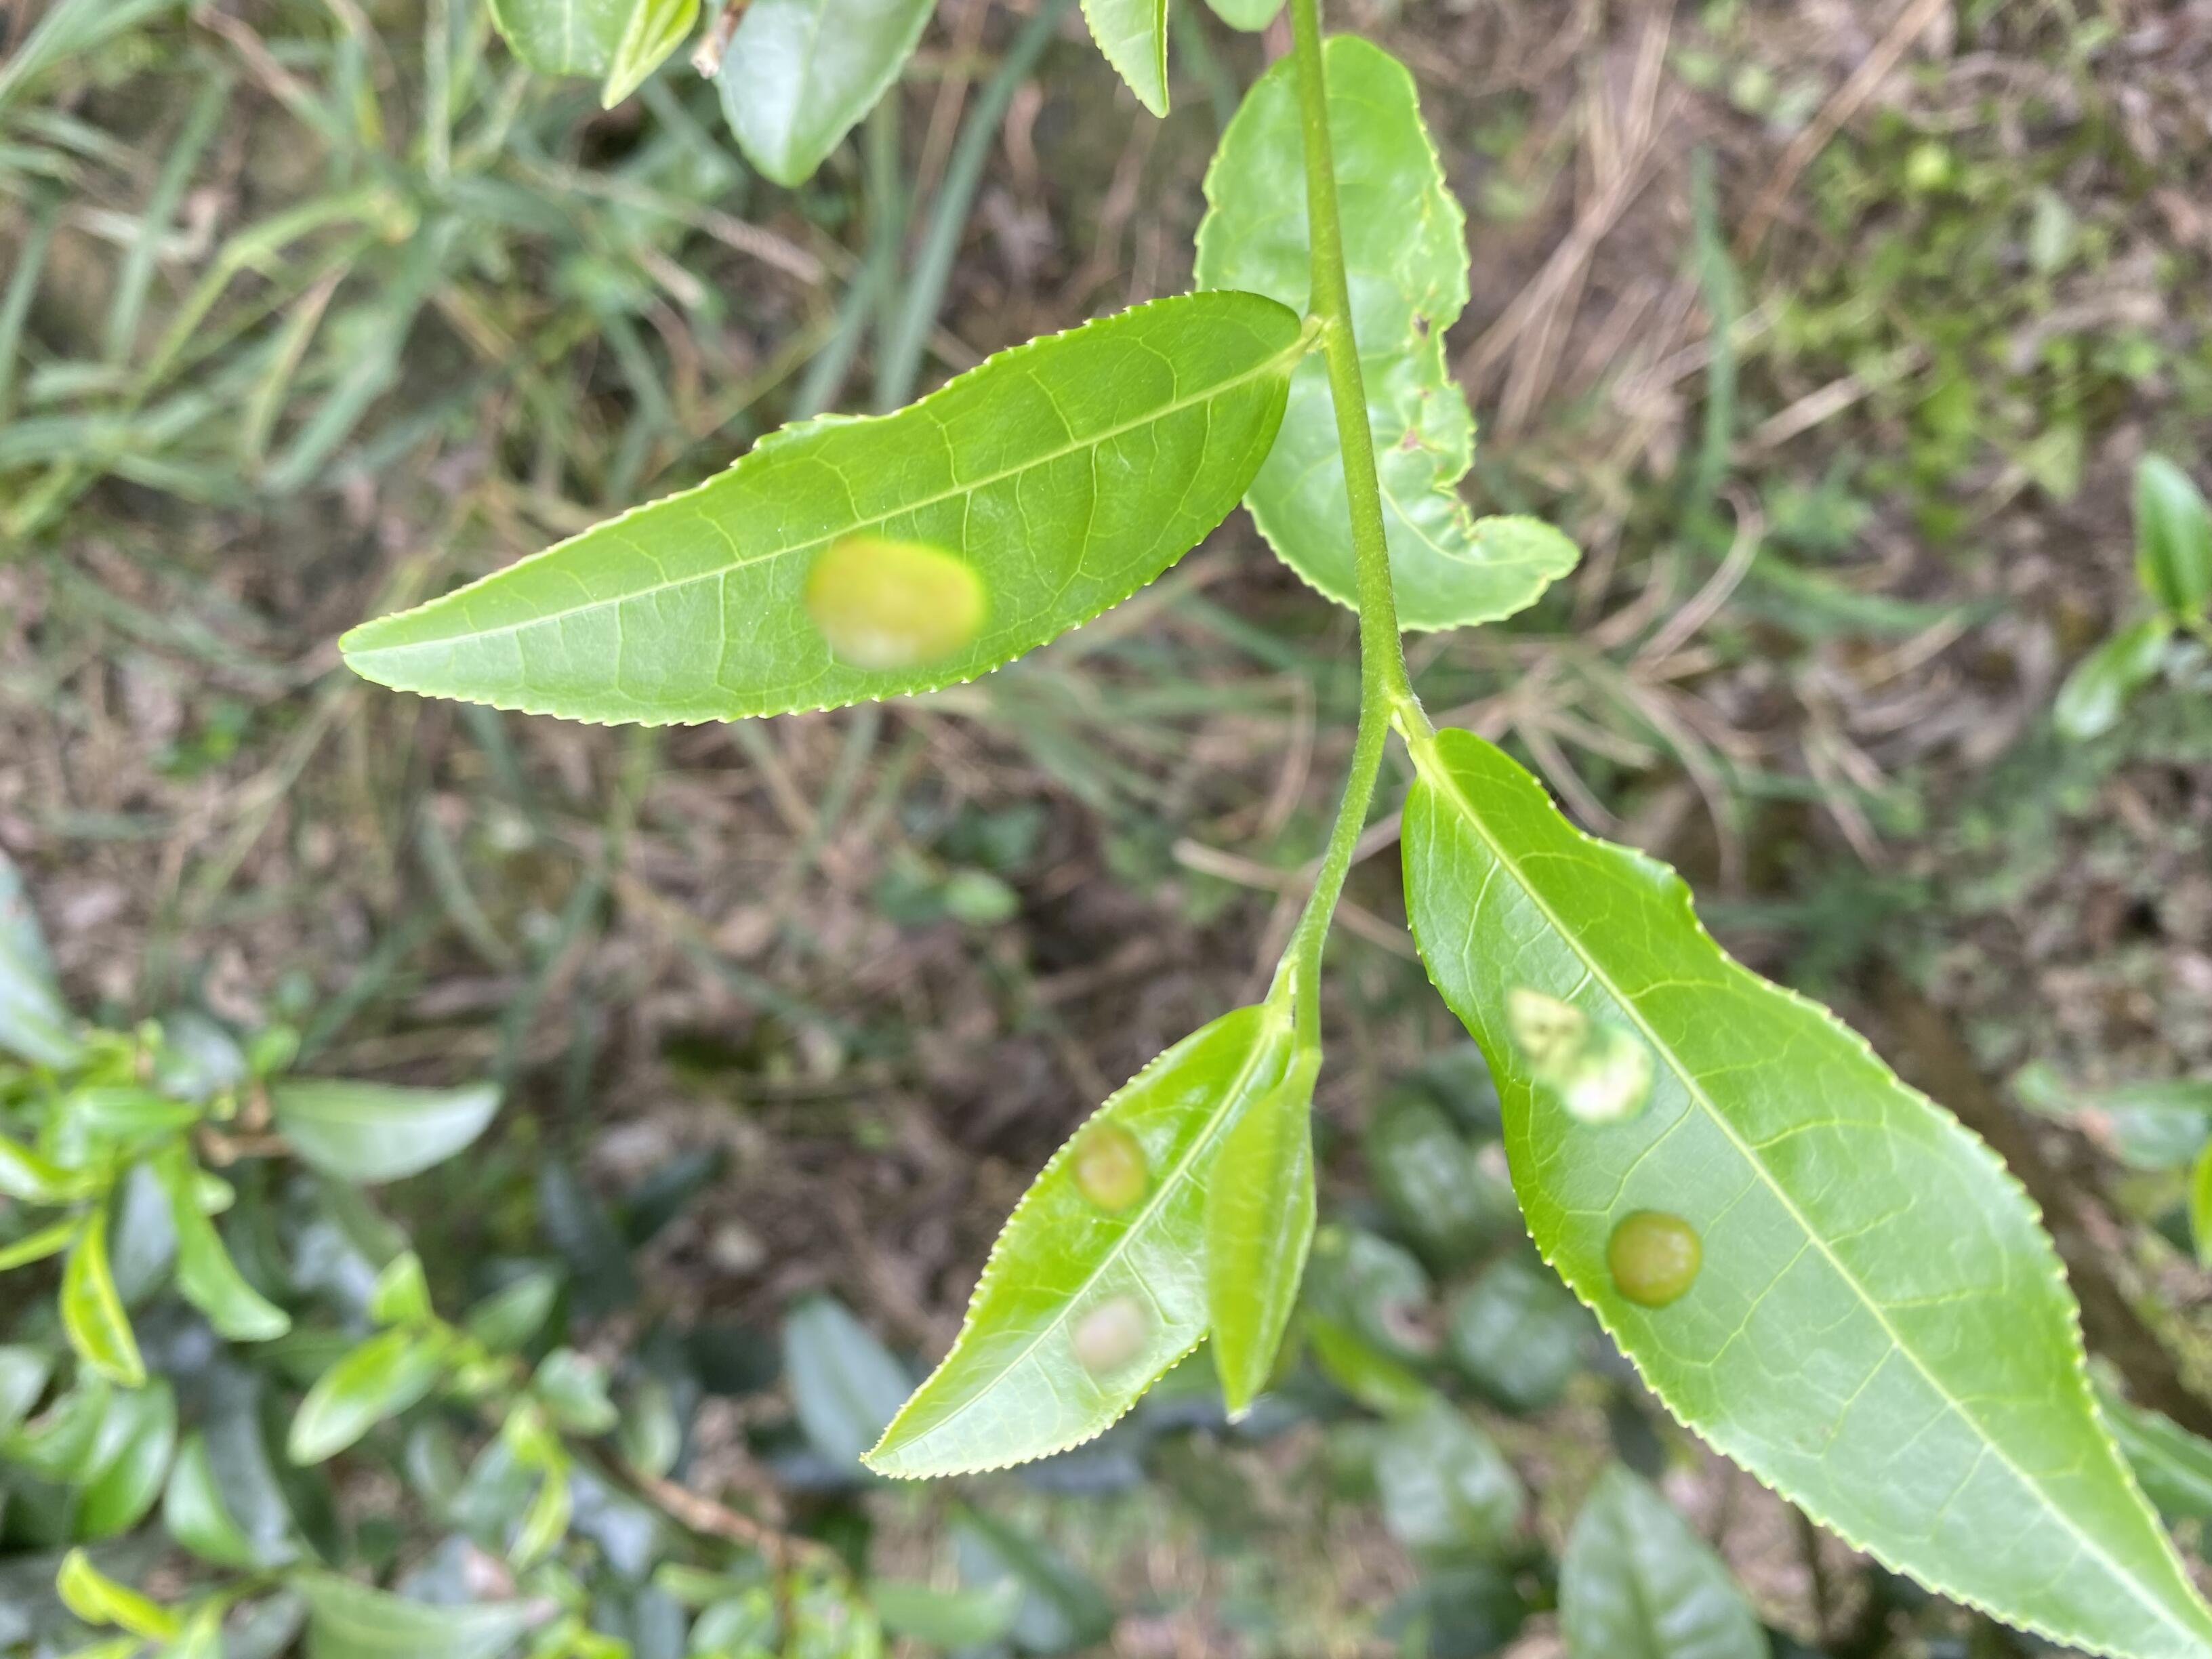chabing_high: (1397, 725, 2203, 1656), (855, 1000, 1292, 1481)
chabing_low: (336, 289, 1296, 735)
chihuo_high: (1188, 33, 1580, 636)
